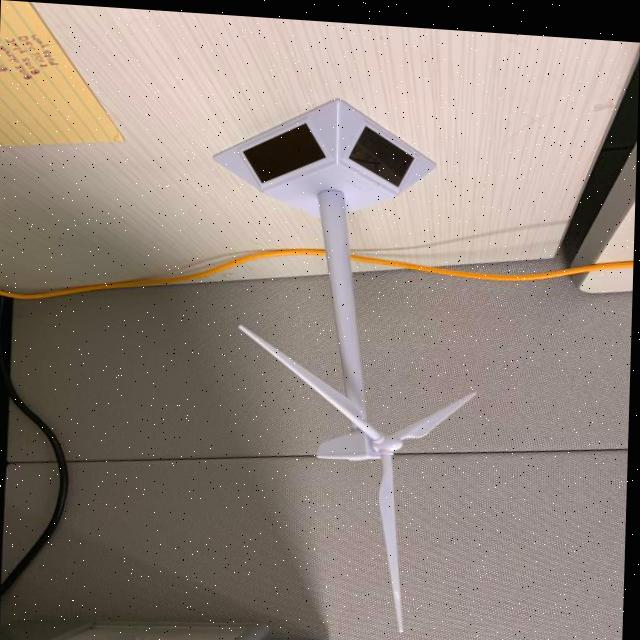solid-blade: (240, 322, 384, 434), (381, 450, 404, 627), (396, 386, 478, 434)
